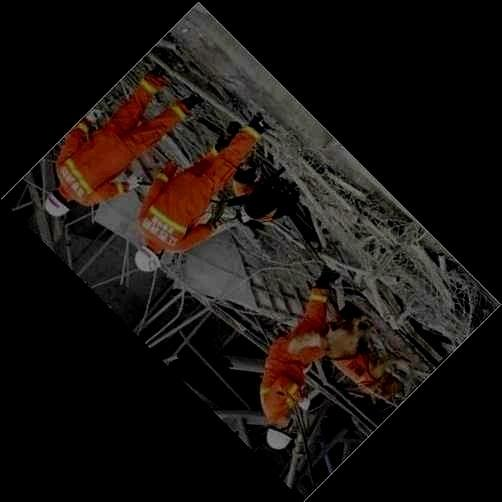helmet: (134, 242, 165, 273), (266, 417, 295, 450), (44, 188, 71, 218)
